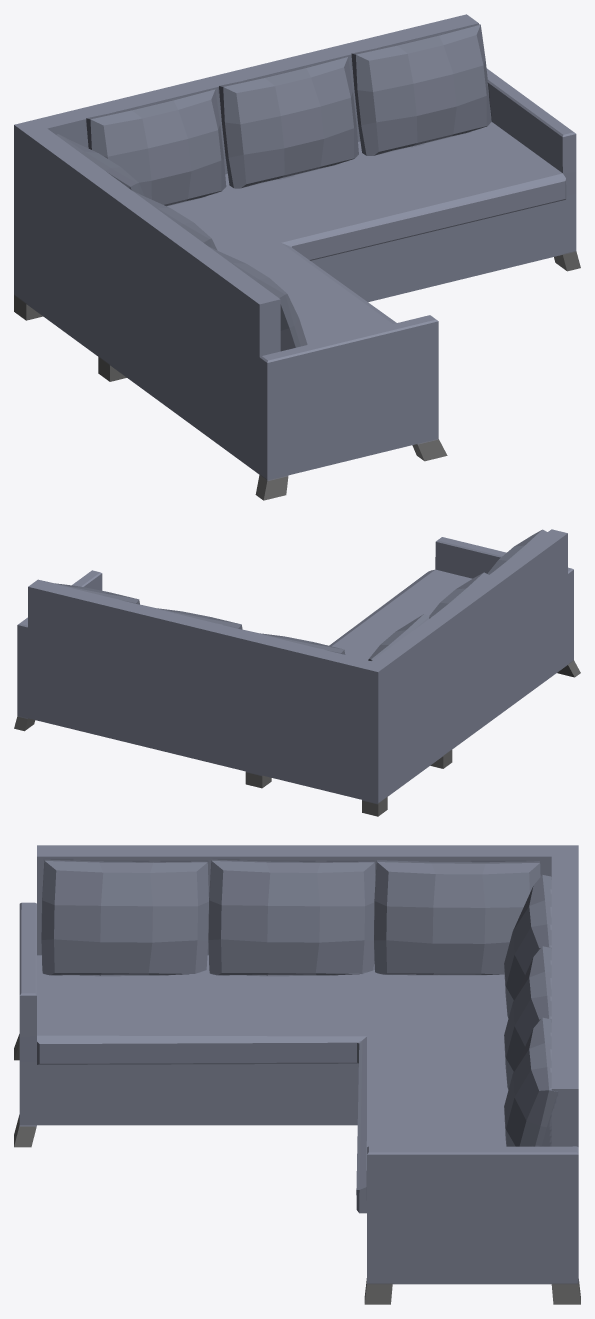
File: sofa90degrees.fbx
3 views of the same model, one above another, from view 1: azimuth 30°, elevation 25°; view 2: azimuth 150°, elevation 25°; view 3: azimuth 270°, elevation 25° (orthographic). The views are drawn at different scales.
Visible parts, largest first — view 1: sofa 90degrees; view 2: sofa 90degrees; view 3: sofa 90degrees.
Boxes of the visible parts, <box> form: sofa 90degrees: <box>14,14,580,500</box>; sofa 90degrees: <box>14,529,580,816</box>; sofa 90degrees: <box>14,845,580,1304</box>.
Bounding box in the file's own units: 321 × 122 × 300.
